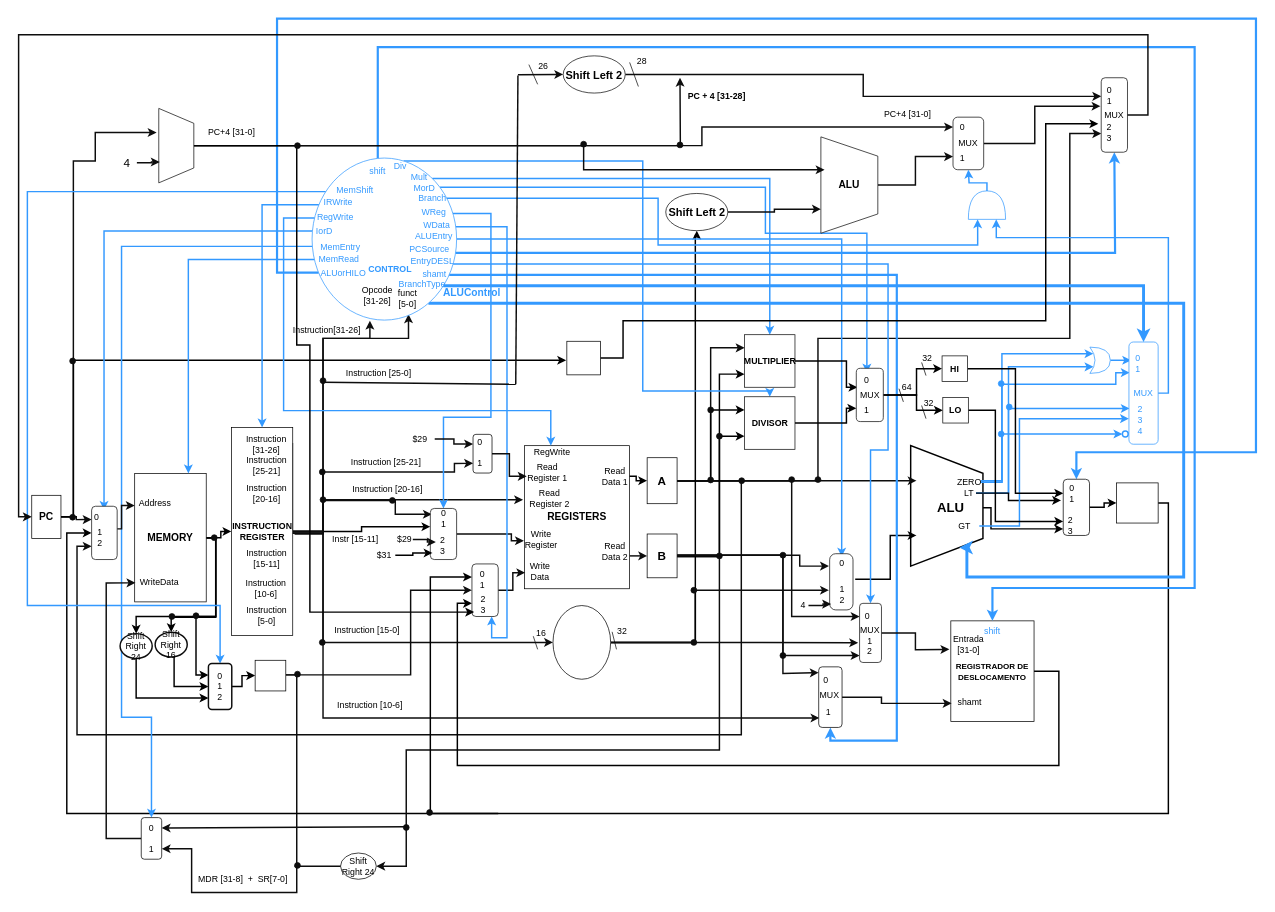
Image size: 1275x912. Some labels were removed from this diagram. The shapes that lost their labels are listed below. From the top down, each one's centre as x and y in pixels, then its label:
At point 176,145: "ADD".
At point 583,358: "EPC".
At point 1137,502: "ALUOut".
At point 581,642: "Sign Extend".
At point 270,675: "Memory Data Register".
